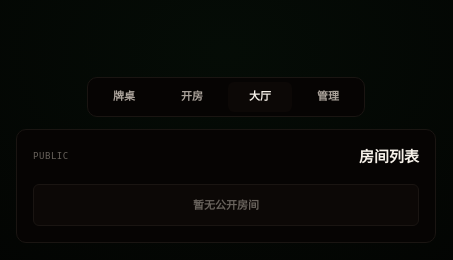
Test case: App shell › does not show a demo table without an active room
Click the button "牌桌" at (124, 97), box [92,82,156,112]
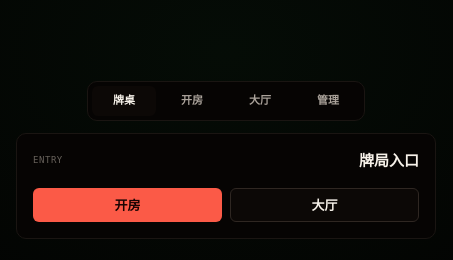
expect the button "开房" below "牌局入口" is shown: met, box [33,188,222,222]
expect the element named "Game entry" is shown: met, box [16,133,436,239]
expect the button "大厅" below "牌局入口" is shown: met, box [230,188,419,222]
